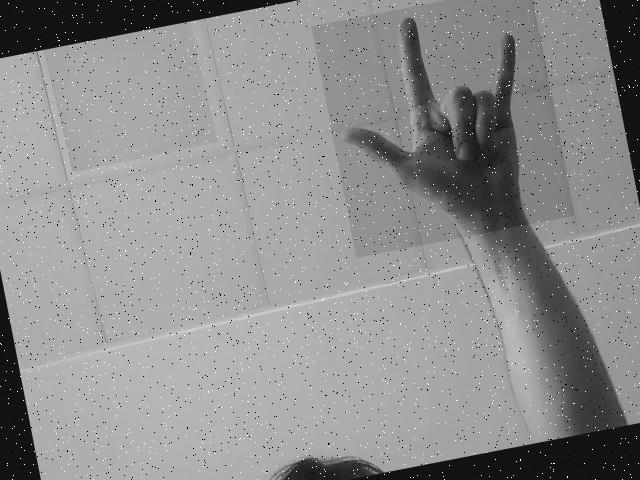I_Love_You: (311, 0, 573, 257)
